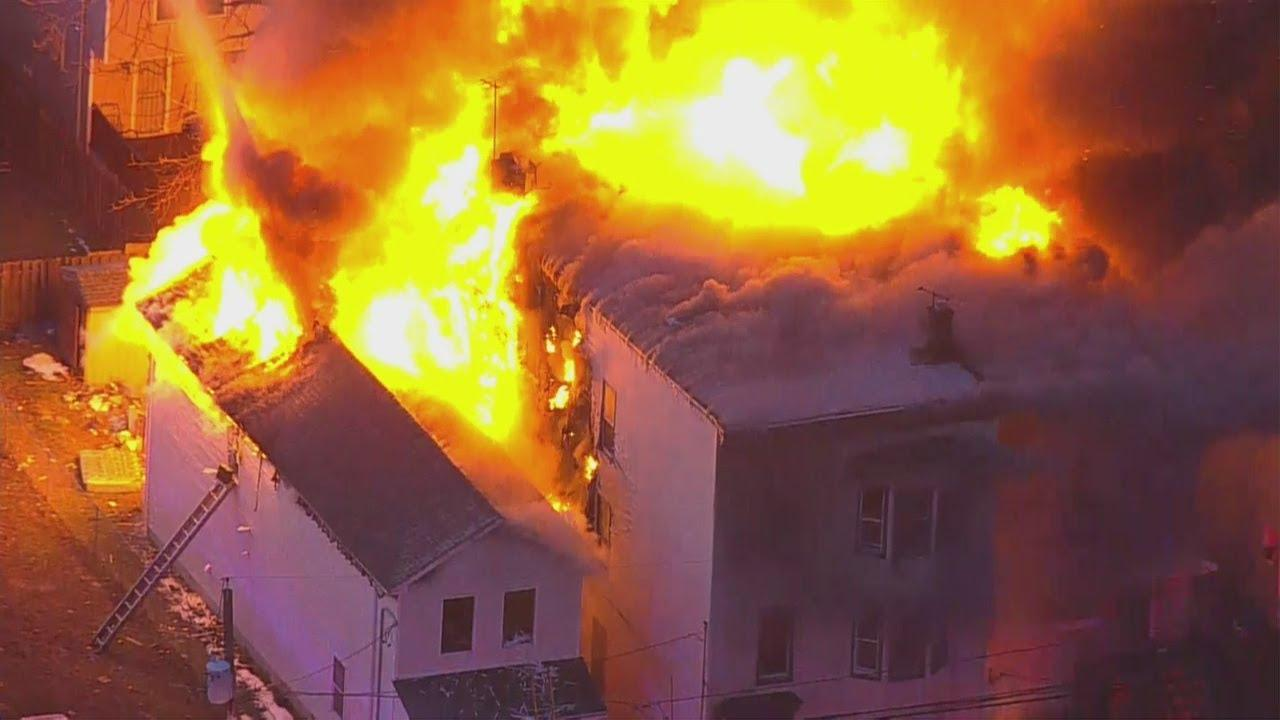Fire: (110, 2, 1134, 460)
